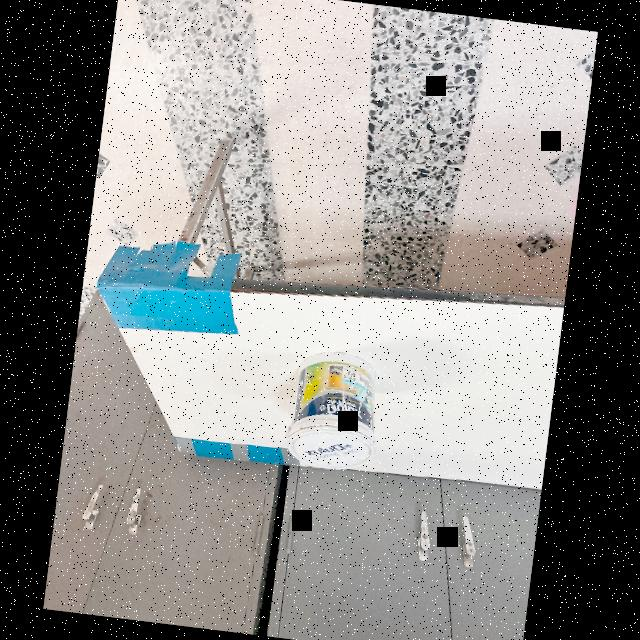paint_bucket: (272, 342, 397, 488)
